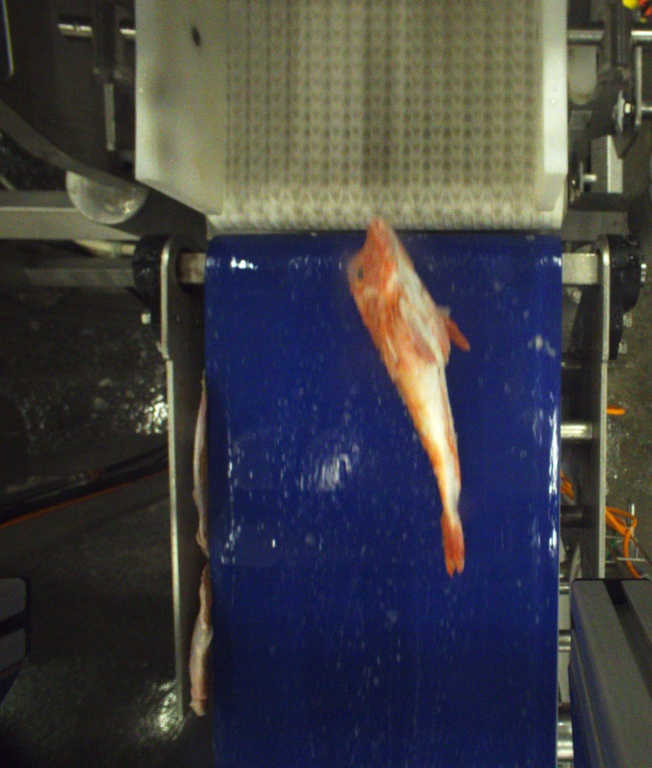GUU: (350, 217, 469, 576)
